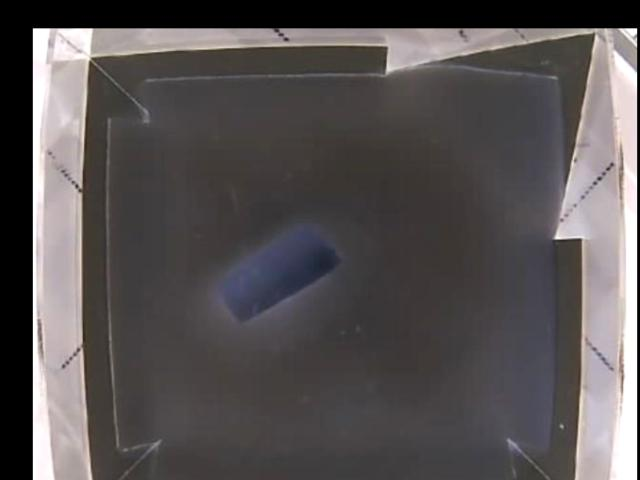Mooli: (217, 221, 338, 321)
